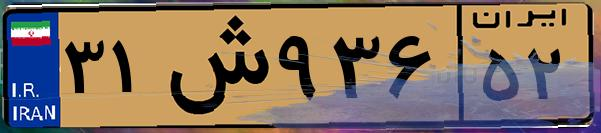1: (110, 28, 158, 98)
2: (525, 38, 570, 115)
3: (330, 28, 385, 110), (57, 26, 110, 100)
5: (475, 38, 525, 113)
6: (385, 28, 445, 110)
9: (270, 28, 330, 110)
ش: (158, 12, 270, 120)
